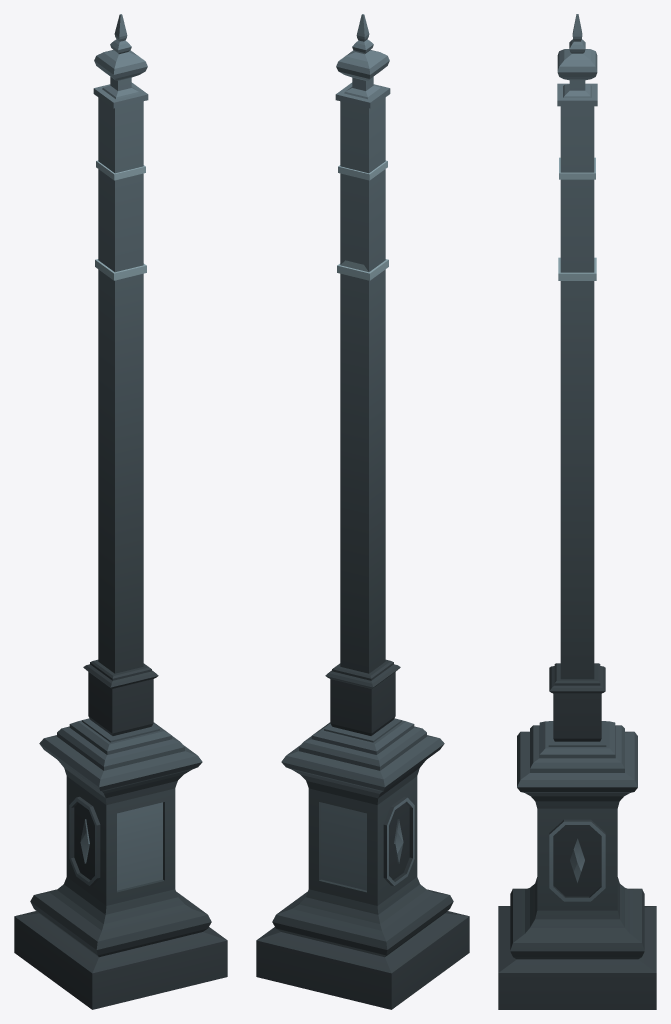
The model's file is Directions_Post.fbx.
3 renders of one model, left to right at view 1: azimuth 30°, elevation 25°; view 2: azimuth 150°, elevation 25°; view 3: azimuth 270°, elevation 25°, orthographic.
Visible parts, largest first — view 1: Cube.033; view 2: Cube.033; view 3: Cube.033.
Boxes of the visible parts, left/top/right/bottom form: Cube.033: left=14, top=14, right=227, bottom=1009; Cube.033: left=256, top=14, right=469, bottom=1009; Cube.033: left=498, top=14, right=656, bottom=1009.
Bounding box in the file's own units: 98.9 × 664 × 98.9.
